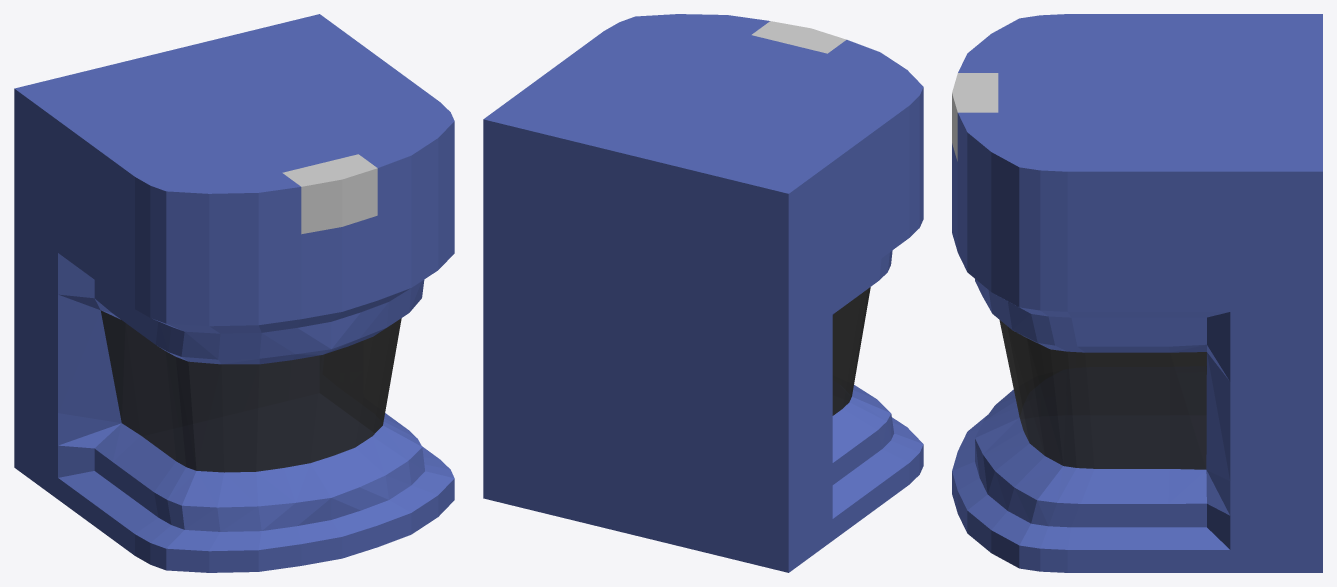
File: sicklms200.dae
The picture shows the model from 3 angles, left to right: view 1: azimuth 30°, elevation 25°; view 2: azimuth 150°, elevation 25°; view 3: azimuth 270°, elevation 25°; orthographic projection. The views are drawn at different scales.
Visible parts, largest first — view 1: SickLms200; view 2: SickLms200; view 3: SickLms200.
Boxes of the visible parts, x1,y1,x2,y2 form: SickLms200: (14,14,454,572); SickLms200: (483,14,923,572); SickLms200: (952,14,1322,572).
Size of the model in its own units: 0.156 by 0.155 by 0.185.
